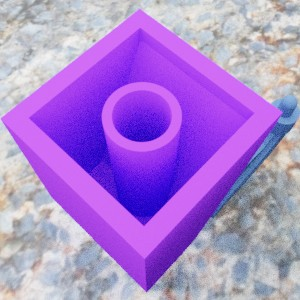lego: (0, 8, 282, 292), (196, 95, 299, 218)
